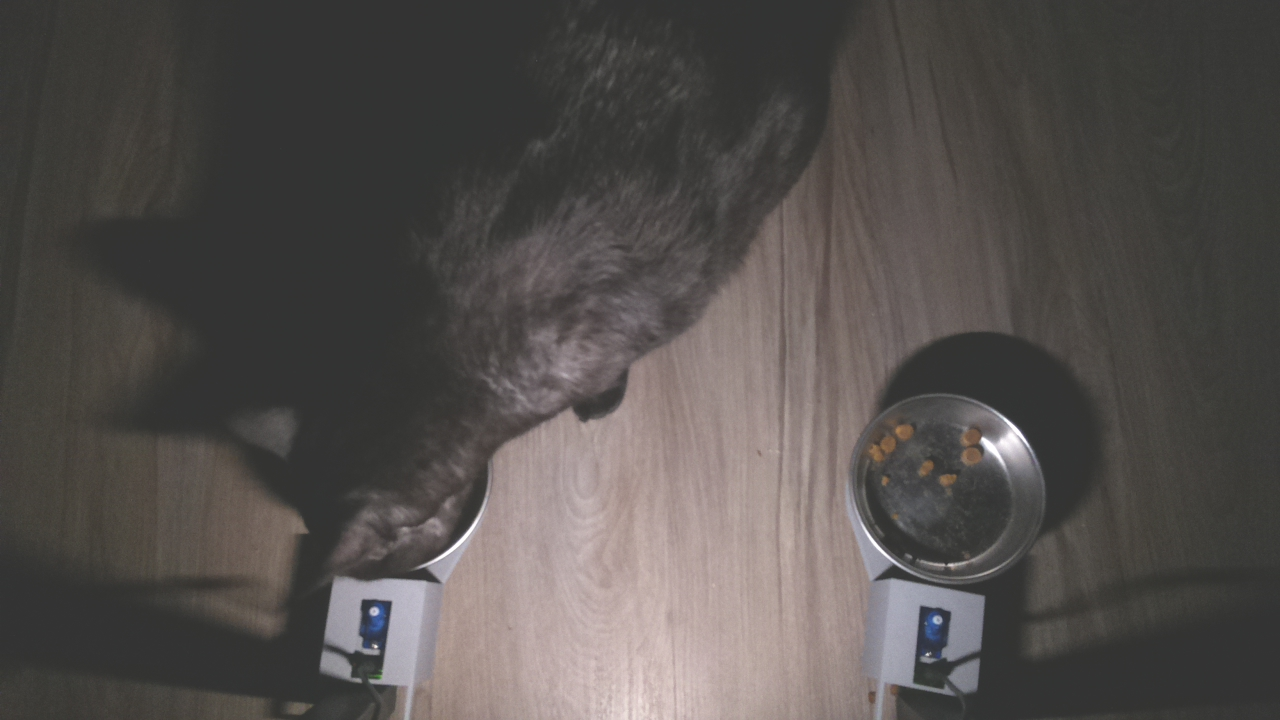open_bowl: (848, 391, 1052, 592)
saki_eating: (226, 314, 511, 614)
